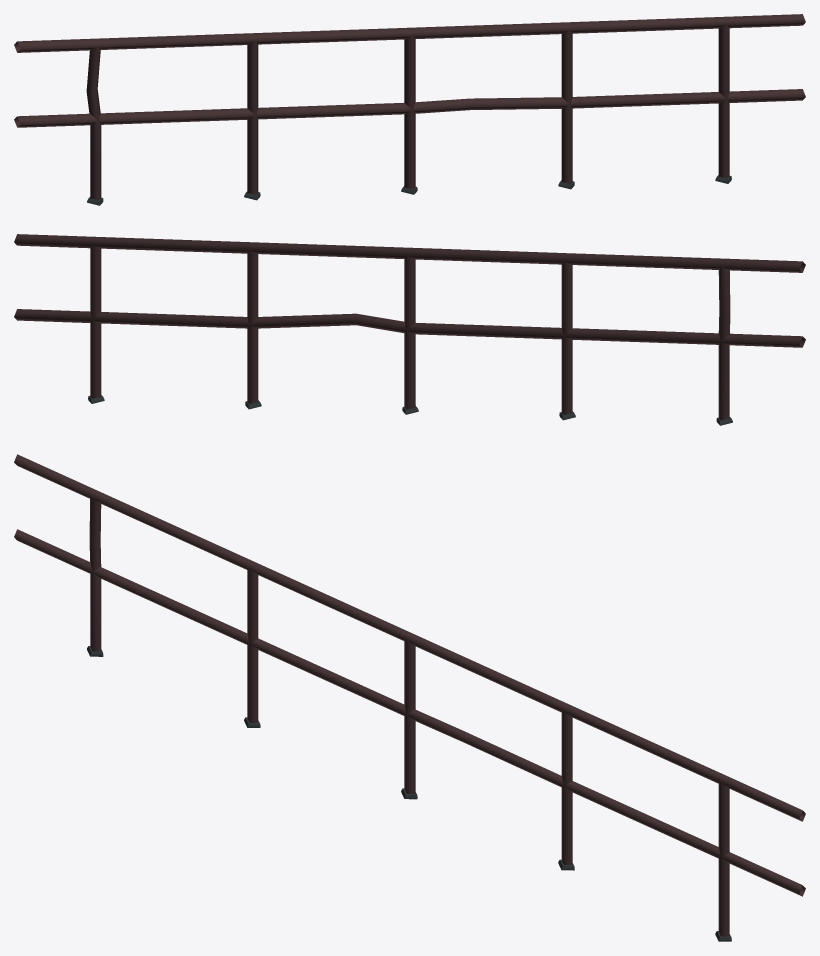
The model's file is SW_ENV_EL_Railing_Rise_5m.fbx.
The picture shows the model from 3 angles, top to bottom: view 1: azimuth 30°, elevation 25°; view 2: azimuth 150°, elevation 25°; view 3: azimuth 330°, elevation 25°; orthographic projection.
Visible parts, largest first — view 1: SW_ENV_EL_Railing_Rise_5m; view 2: SW_ENV_EL_Railing_Rise_5m; view 3: SW_ENV_EL_Railing_Rise_5m.
Part boxes in pixels (bbox=[...]): SW_ENV_EL_Railing_Rise_5m: bbox=[14, 14, 805, 205]; SW_ENV_EL_Railing_Rise_5m: bbox=[14, 234, 805, 425]; SW_ENV_EL_Railing_Rise_5m: bbox=[14, 454, 805, 941].
Size of the model in its own units: 5 by 1.91 by 0.1253.
